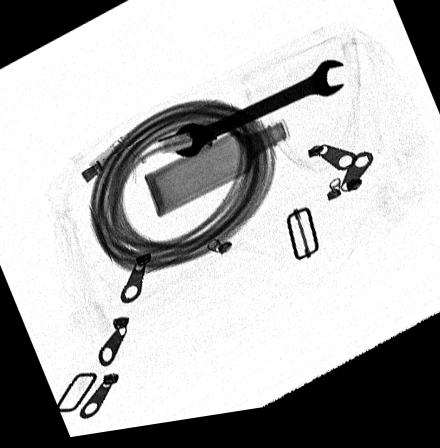Wrench: (170, 70, 345, 165)
